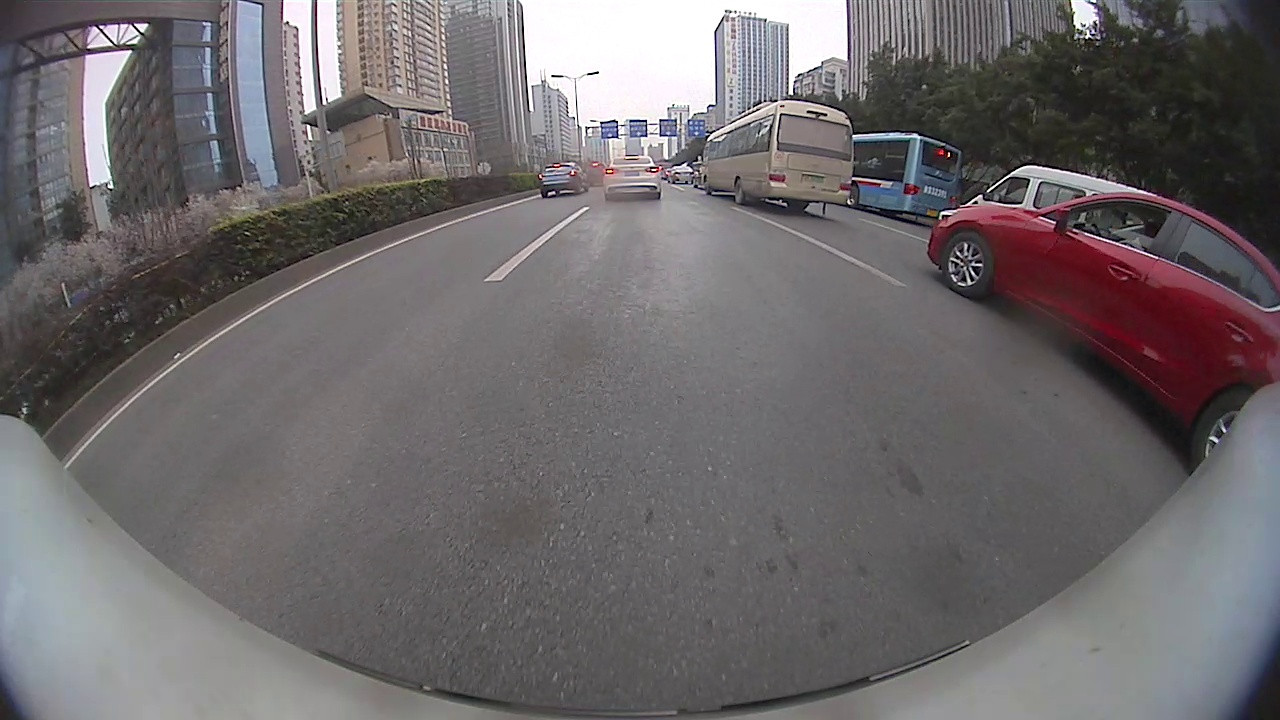bus: (702, 98, 854, 213), (857, 133, 962, 220)
car: (926, 193, 1279, 466), (939, 160, 1160, 217), (603, 154, 662, 198), (539, 160, 589, 198)
front: (939, 231, 994, 301)
rear: (1195, 383, 1257, 471), (731, 176, 746, 206), (844, 183, 860, 207)
